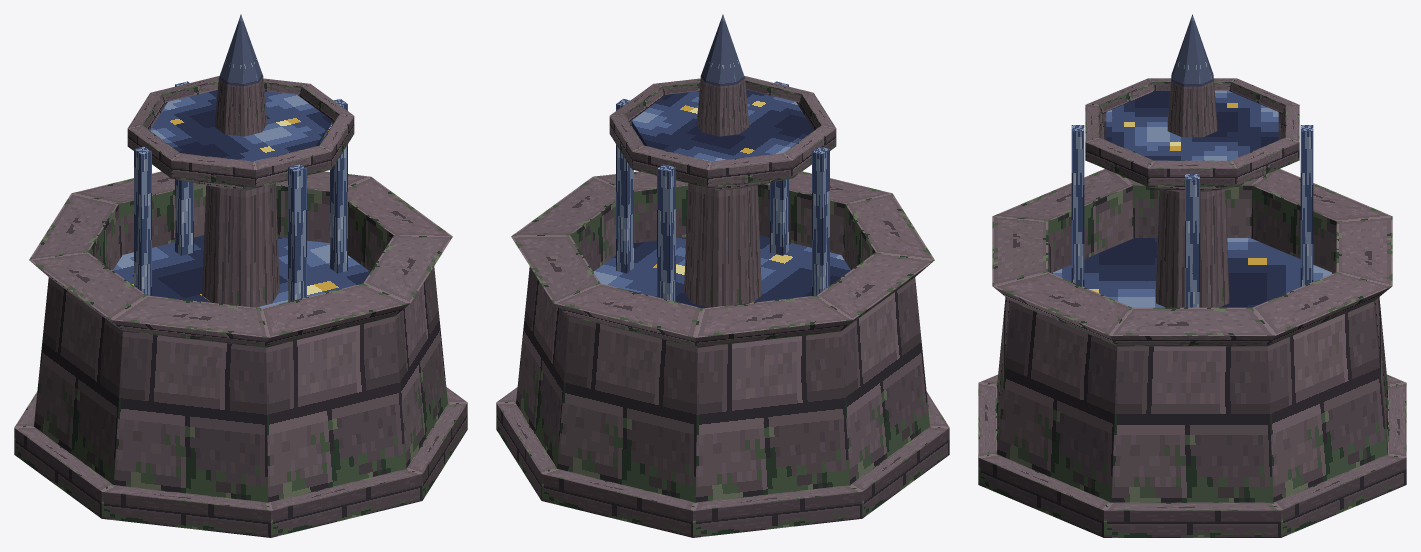
Rendered from brunnen_a1_bereit.glb.
3 renders of one model, left to right at view 1: azimuth 30°, elevation 25°; view 2: azimuth 150°, elevation 25°; view 3: azimuth 270°, elevation 25°, orthographic.
Visible parts, largest first — view 1: body, column, falls, water_bowl, water_basin; view 2: body, column, falls, water_bowl, water_basin; view 3: body, column, water_basin, water_bowl, falls.
Part boxes in pixels (bbox=[...]): body: bbox=[14, 171, 467, 537]; column: bbox=[127, 14, 354, 307]; falls: bbox=[134, 81, 347, 301]; water_bowl: bbox=[150, 89, 332, 161]; water_basin: bbox=[113, 235, 370, 308]; body: bbox=[496, 171, 949, 537]; column: bbox=[609, 14, 836, 307]; falls: bbox=[616, 81, 829, 301]; water_bowl: bbox=[631, 89, 813, 161]; water_basin: bbox=[593, 235, 850, 308]; body: bbox=[978, 169, 1406, 537]; column: bbox=[1085, 14, 1299, 307]; water_basin: bbox=[1053, 238, 1331, 307]; water_bowl: bbox=[1106, 90, 1278, 160]; falls: bbox=[1071, 125, 1313, 307].
Size of the model in its own units: 1.7 by 1.9 by 1.7.
Materials: 5 (5 with a texture image).
